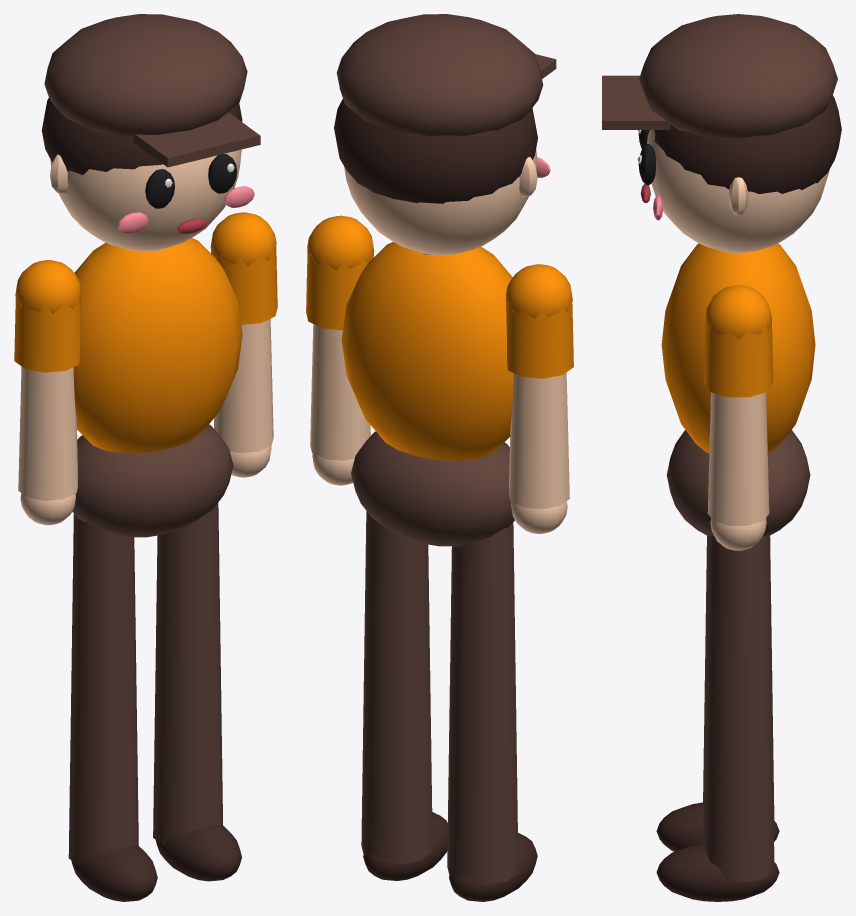
Rendered from cameos_delivery.glb.
3 renders of one model, left to right at view 1: azimuth 30°, elevation 25°; view 2: azimuth 150°, elevation 25°; view 3: azimuth 270°, elevation 25°, orthographic.
Parts seen in each view (by area): view 1: Body.013, Leg_R.013, Leg_L.013, Arm_R.013, Arm_L.013; view 2: Body.013, Leg_R.013, Leg_L.013, Arm_R.013, Arm_L.013; view 3: Body.013, Leg_L.013, Arm_L.013, Leg_R.013.
Part boxes in pixels (left/top/right/bottom): Body.013: left=41, top=14, right=260, bottom=537; Leg_R.013: left=68, top=514, right=157, bottom=901; Leg_L.013: left=153, top=503, right=241, bottom=881; Arm_R.013: left=14, top=260, right=81, bottom=525; Arm_L.013: left=210, top=212, right=277, bottom=477; Body.013: left=334, top=14, right=556, bottom=546; Leg_R.013: left=447, top=522, right=537, bottom=901; Leg_L.013: left=361, top=511, right=447, bottom=880; Arm_R.013: left=505, top=264, right=573, bottom=533; Arm_L.013: left=306, top=215, right=374, bottom=485; Body.013: left=602, top=14, right=841, bottom=535; Leg_L.013: left=656, top=535, right=779, bottom=901; Arm_L.013: left=703, top=285, right=773, bottom=550; Leg_R.013: left=656, top=536, right=779, bottom=851.
Size of the model in its own units: 0.57 by 1.82 by 0.4674.
